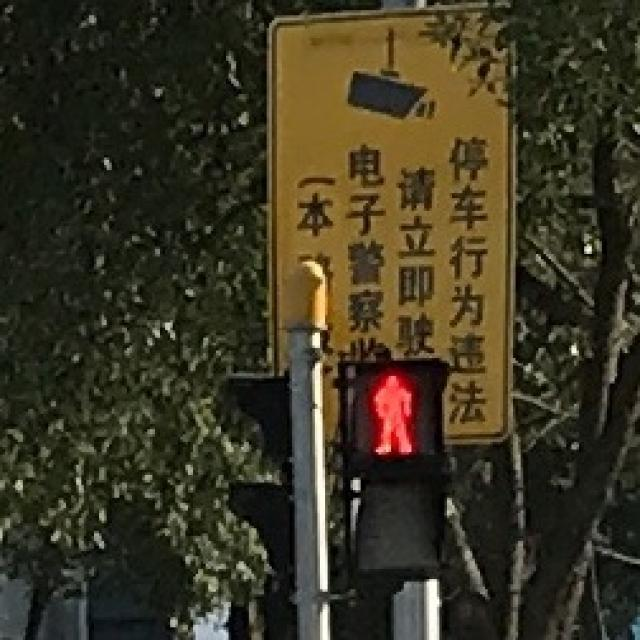red-crossing: (346, 358, 434, 460)
